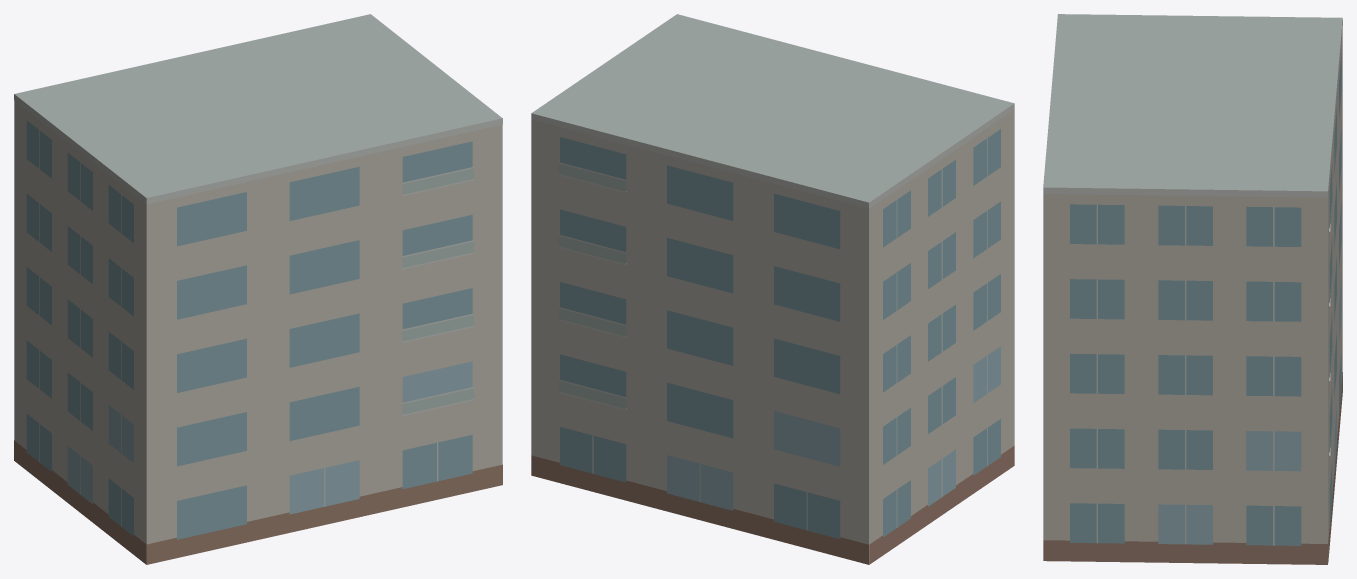
File: survey-upis-32879461.glb
3 renders of one model, left to right at view 1: azimuth 30°, elevation 25°; view 2: azimuth 150°, elevation 25°; view 3: azimuth 270°, elevation 25°, orthographic. The views are drawn at different scales.
Parts seen in each view (by area): view 1: survey-upis-32879461.tmp; view 2: survey-upis-32879461.tmp; view 3: survey-upis-32879461.tmp.
Boxes of the visible parts, <box> form: survey-upis-32879461.tmp: <box>14,14,502,564</box>; survey-upis-32879461.tmp: <box>531,14,1014,564</box>; survey-upis-32879461.tmp: <box>1043,14,1342,564</box>.
Bounding box in the file's own units: 14.57 × 14.3 × 10.41.
